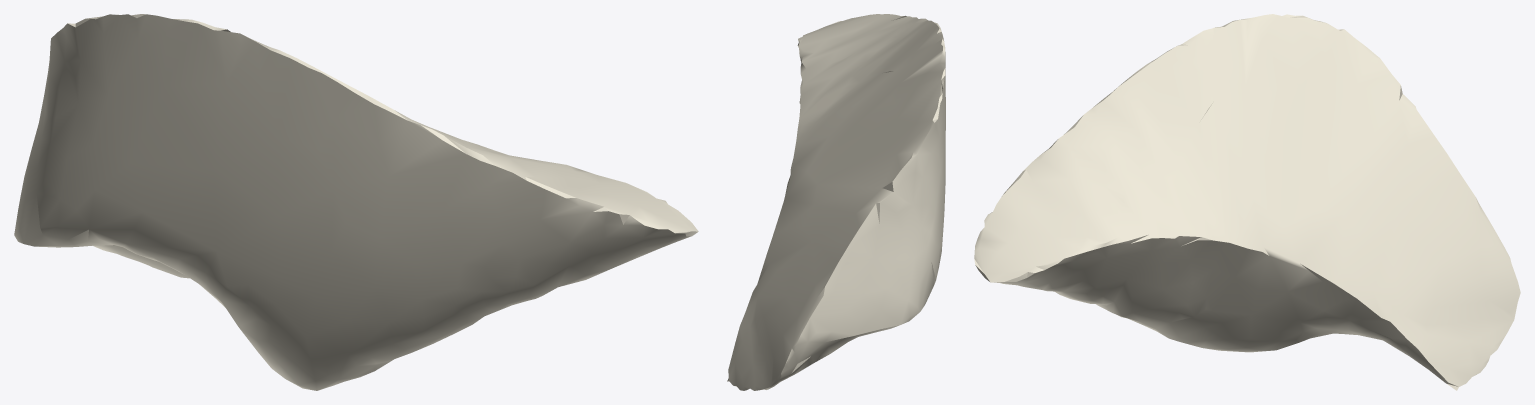
File: fma52908_mm2055m.glb
The picture shows the model from 3 angles, left to right: view 1: azimuth 30°, elevation 25°; view 2: azimuth 150°, elevation 25°; view 3: azimuth 270°, elevation 25°; orthographic projection. The views are drawn at different scales.
Parts seen in each view (by area): view 1: FMA52908_MM2055M; view 2: FMA52908_MM2055M; view 3: FMA52908_MM2055M.
Boxes of the visible parts, x1,y1,x2,y2 form: FMA52908_MM2055M: (14,14,698,390); FMA52908_MM2055M: (727,14,945,390); FMA52908_MM2055M: (974,14,1520,390).
Bounding box in the file's own units: 0.0112 × 0.0104 × 0.0167.
